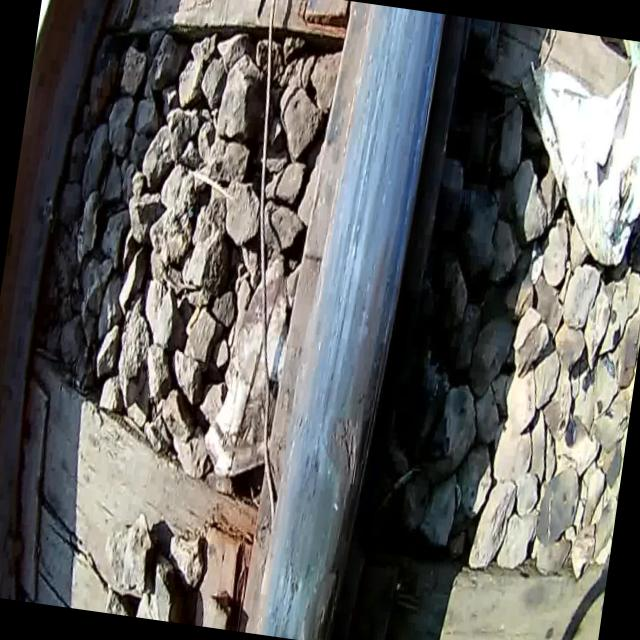Squats: (234, 0, 468, 640)
